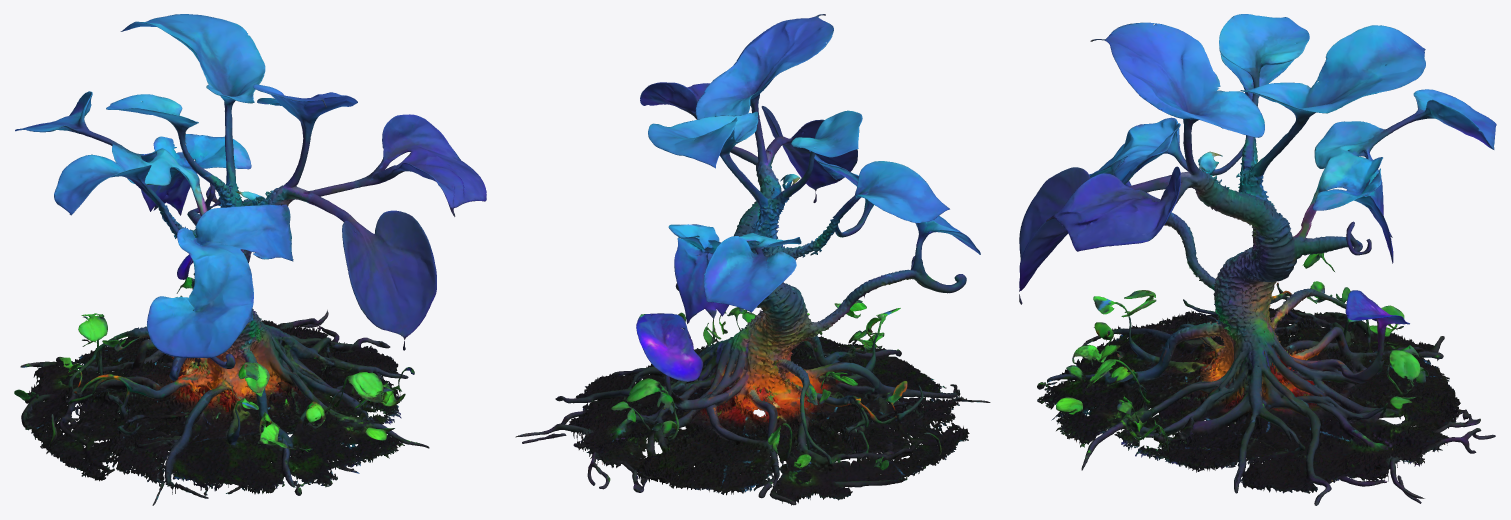
File: muta-plant2.glb
3 renders of one model, left to right at view 1: azimuth 30°, elevation 25°; view 2: azimuth 150°, elevation 25°; view 3: azimuth 270°, elevation 25°, orthographic. The views are drawn at different scales.
Bounding box in the file's own units: 1.88 × 1.77 × 1.99.
Materials: 1 (1 with a texture image).
